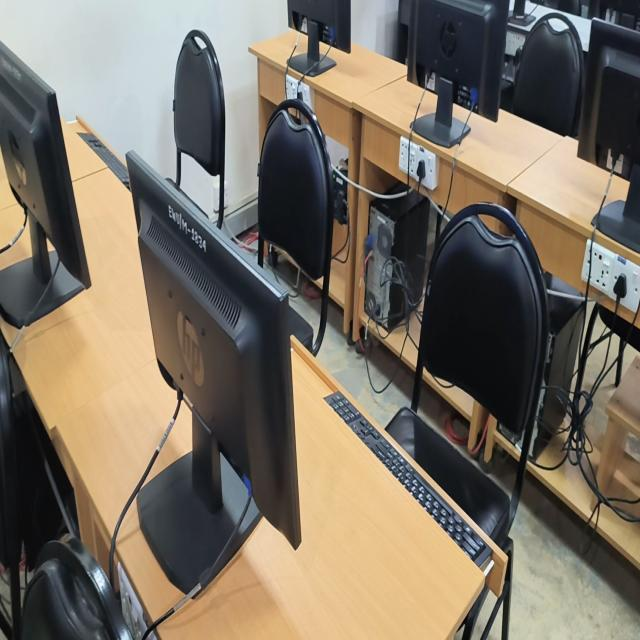Chair: (385, 203, 548, 639), (258, 99, 334, 356), (21, 535, 131, 639), (173, 30, 225, 228), (512, 12, 584, 136)
Cpu: (529, 272, 586, 462), (364, 189, 431, 330)
Keyboard: (324, 392, 492, 567), (79, 133, 129, 190)
Monitor: (126, 152, 301, 588), (0, 42, 91, 329), (399, 0, 509, 146), (578, 20, 640, 253), (288, 0, 351, 76)
